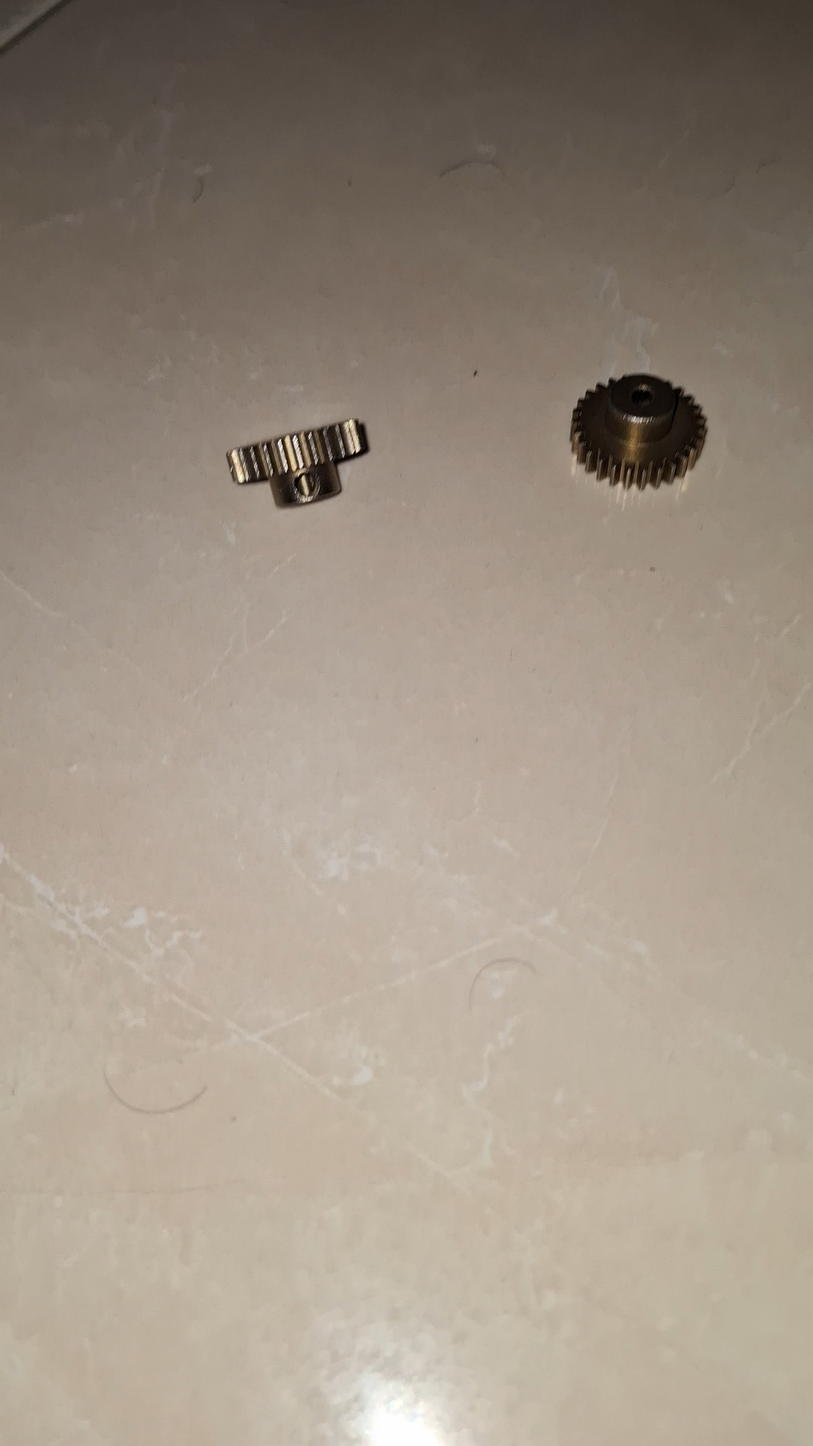spur gear: (570, 374, 706, 488), (227, 419, 367, 506)
